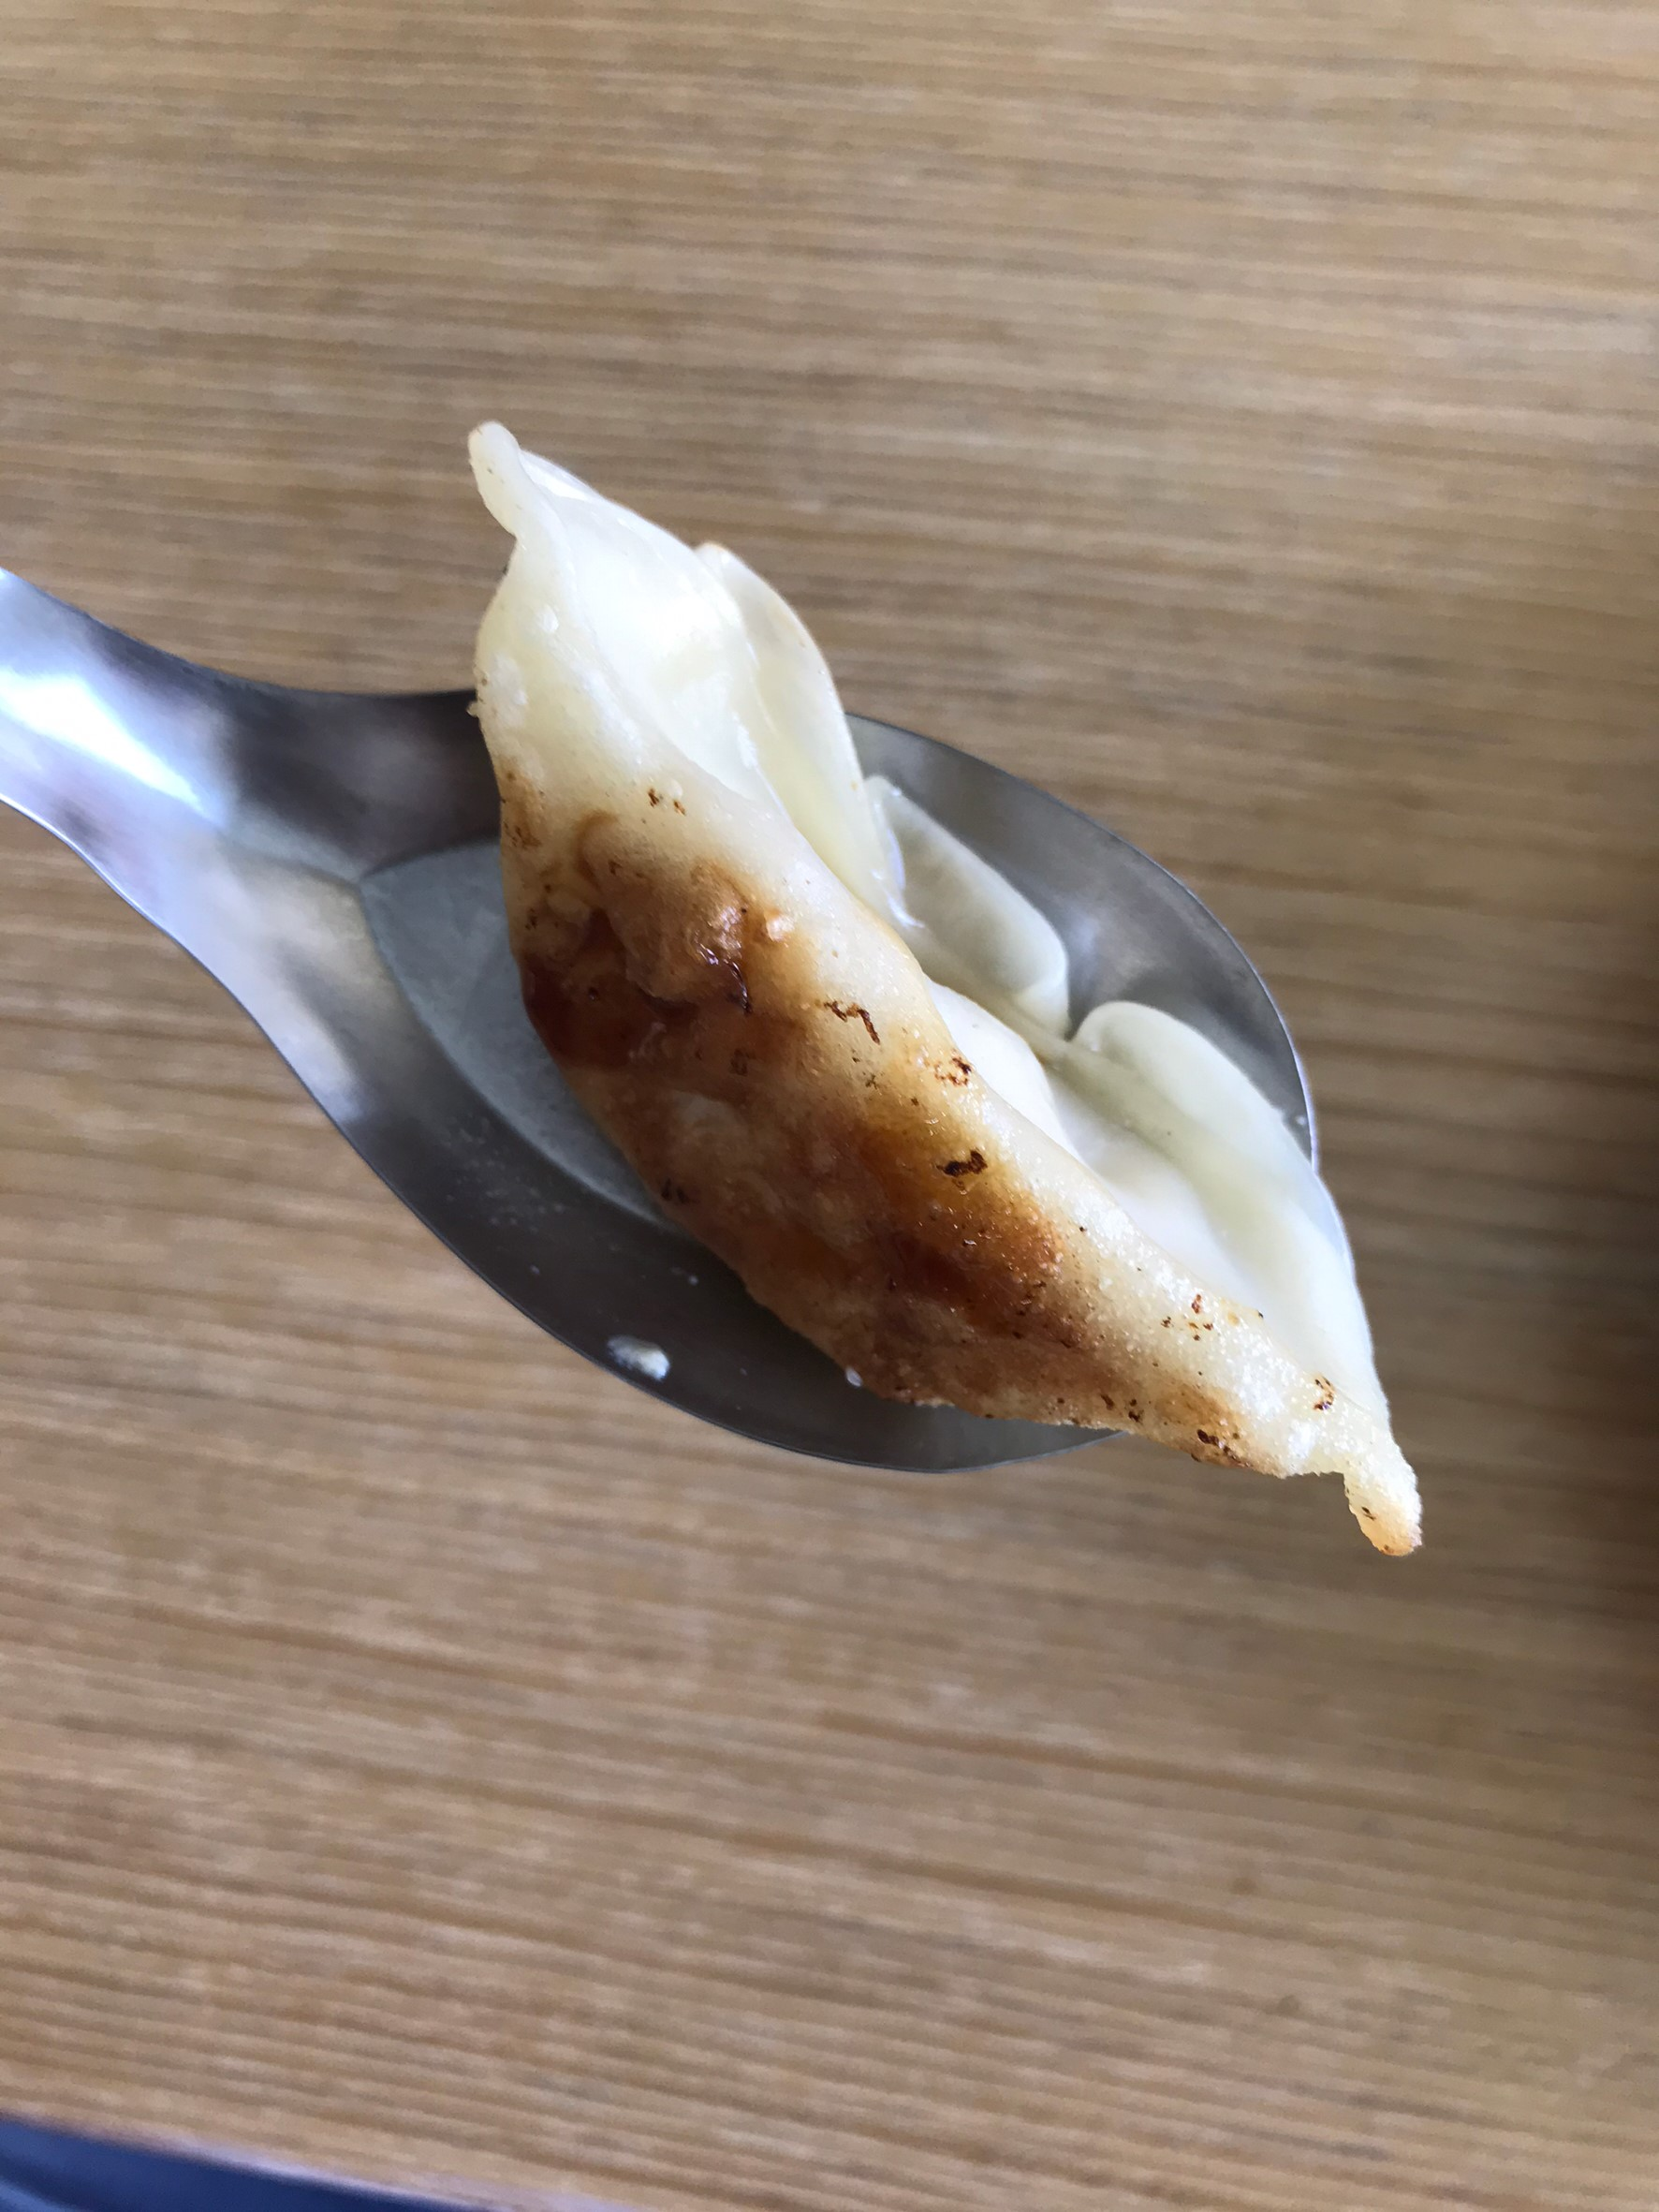fried_dumplings: (486, 443, 1396, 1518)
